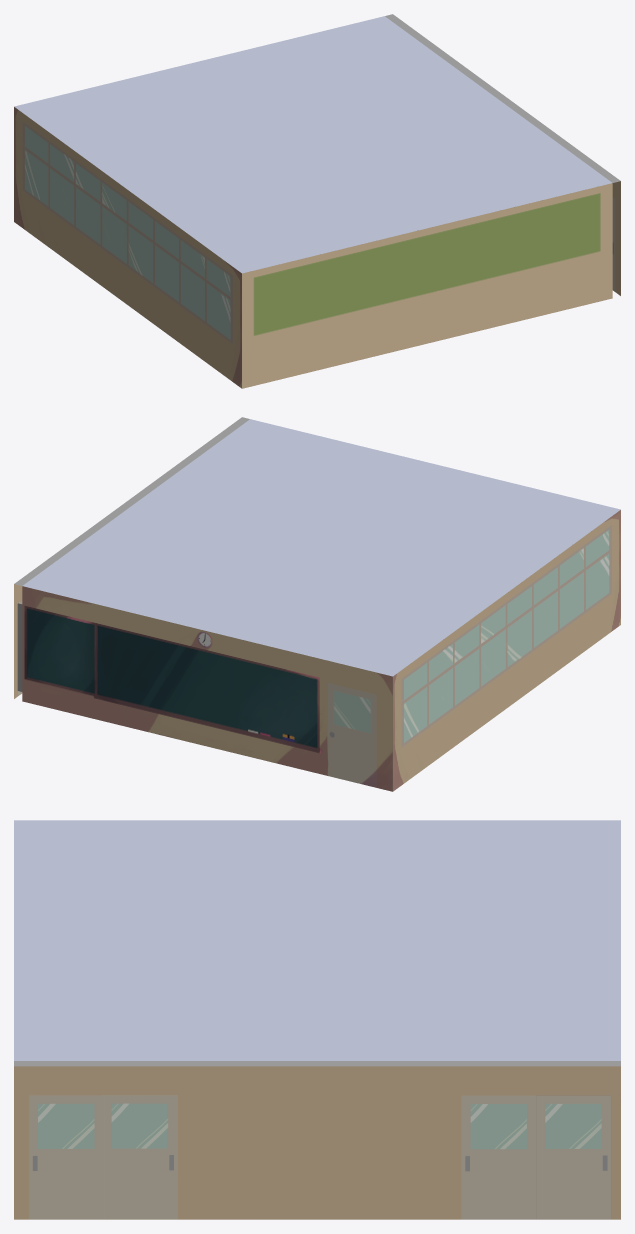
File: zukoushitsu04.fbx
The picture shows the model from 3 angles, top to bottom: view 1: azimuth 30°, elevation 25°; view 2: azimuth 150°, elevation 25°; view 3: azimuth 270°, elevation 25°; orthographic projection. The views are drawn at different scales.
Parts seen in each view (by area): view 1: tenjou, polySurface2; view 2: tenjou, polySurface2; view 3: tenjou, polySurface2, dore.
Boxes of the visible parts, x1,y1,x2,y2 form: tenjou: [14, 16, 611, 273]; polySurface2: [14, 14, 620, 388]; tenjou: [23, 419, 620, 676]; polySurface2: [14, 417, 620, 791]; tenjou: [14, 820, 620, 1060]; polySurface2: [14, 1061, 620, 1219]; dore: [536, 1095, 610, 1219].
Bounding box in the file's own units: 23.39 × 6.8 × 24.39.
